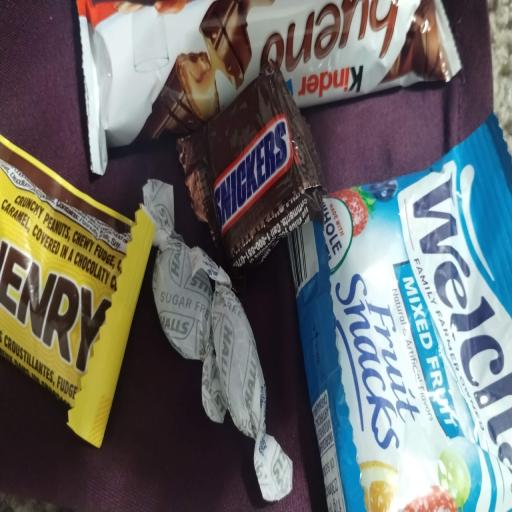chocolate: (289, 115, 511, 511), (77, 0, 460, 173), (0, 137, 154, 446), (178, 65, 322, 268), (191, 248, 292, 500), (141, 176, 213, 382)
